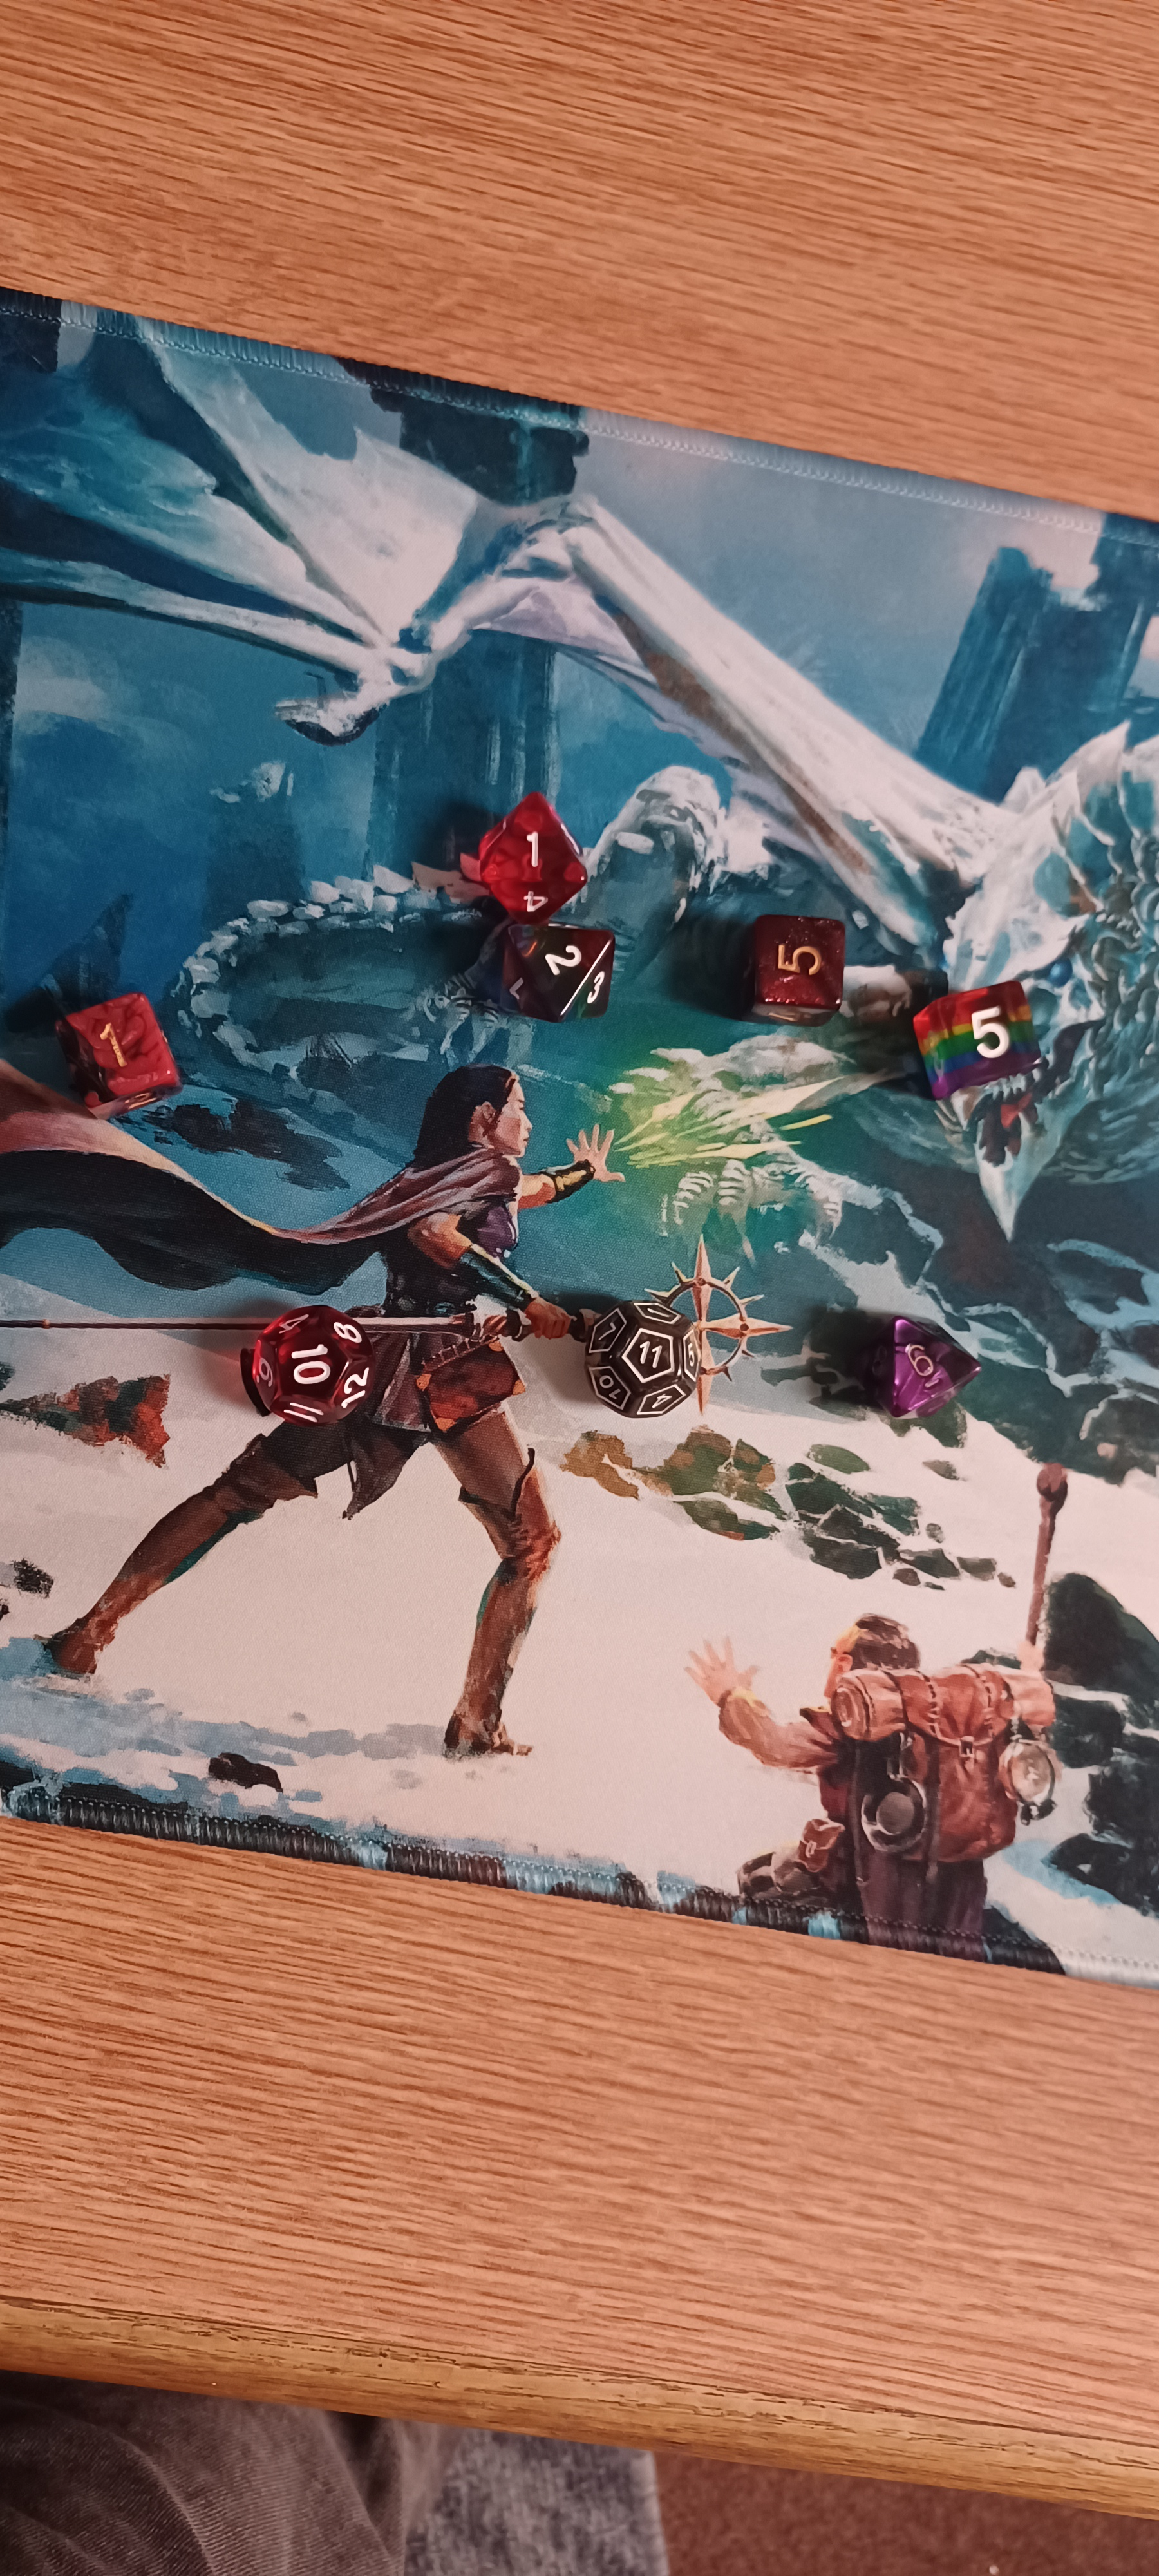eleven: (565, 1257, 732, 1472)
five: (709, 884, 867, 1050), (888, 958, 1051, 1106)
one: (419, 775, 622, 927), (21, 963, 208, 1127)
six: (824, 1290, 1028, 1460)
ten: (213, 1281, 409, 1460)
two: (496, 923, 639, 1032)
